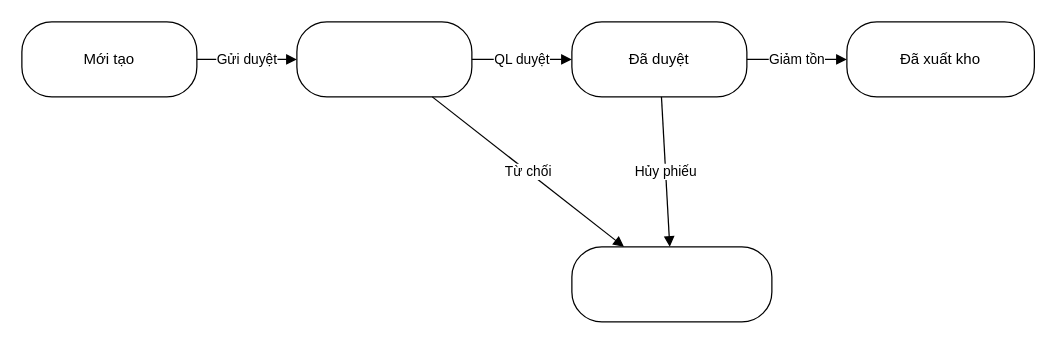
Image size: 1056x344. Some labels were removed from this diagram. Each missing label, with the centre of its shape:
"Chờ duyệt" belongs at (384,59).
"Hủy / Từ chối" belongs at (671,284).
